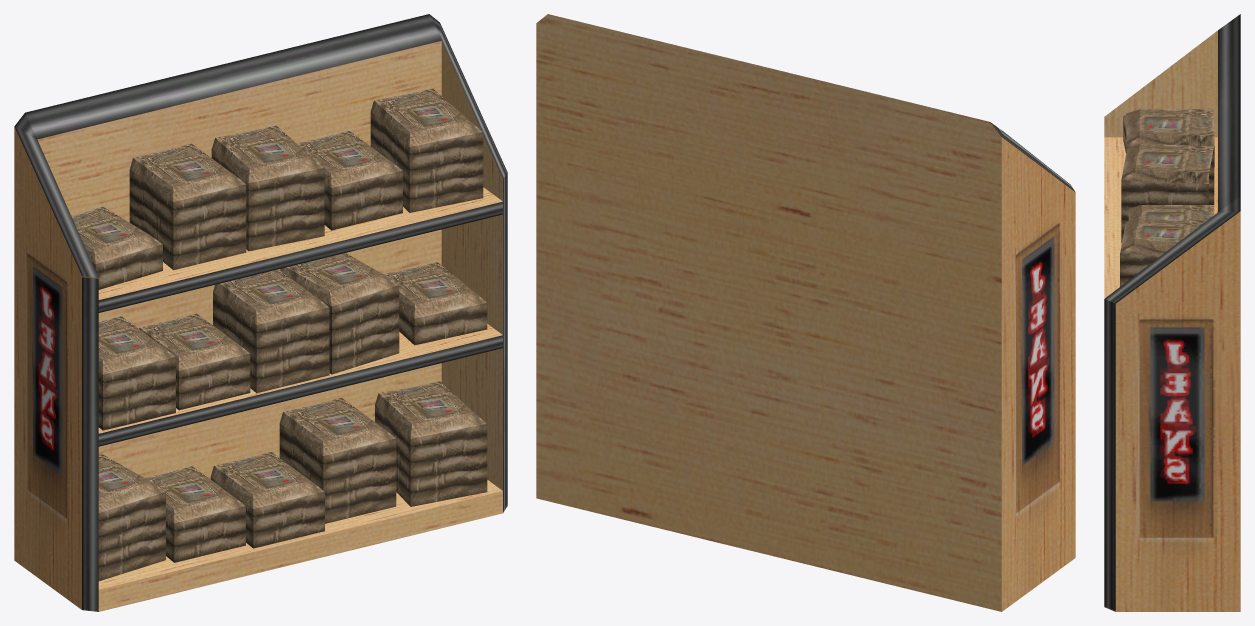
The model's file is jeanshelves.fbx.
The picture shows the model from 3 angles, left to right: view 1: azimuth 30°, elevation 25°; view 2: azimuth 150°, elevation 25°; view 3: azimuth 270°, elevation 25°; orthographic projection. The views are drawn at different scales.
Parts seen in each view (by area): view 1: mesh_0; view 2: mesh_0; view 3: mesh_0.
Part boxes in pixels (x1,y1,x2,y2): mesh_0: (14,14,507,611); mesh_0: (536,14,1075,611); mesh_0: (1104,14,1240,611).
Size of the model in its own units: 160 by 160 by 47.89.
Materials: 1 (1 with a texture image).
